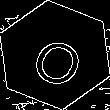O_NE: (23, 23, 87, 87)
